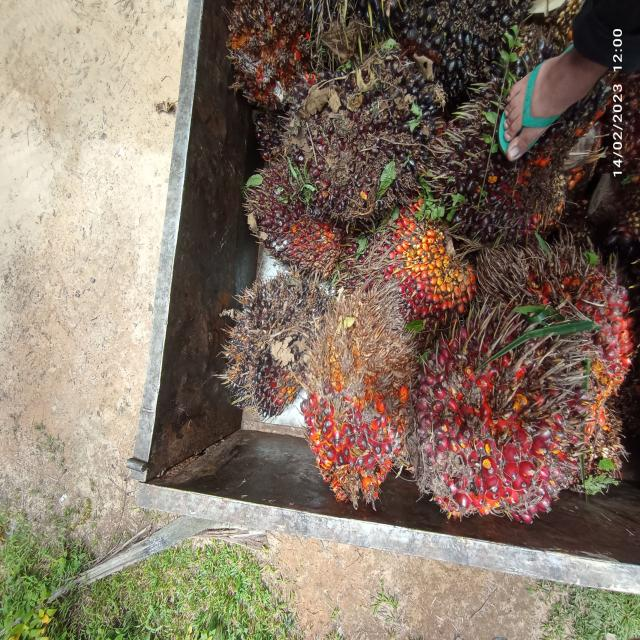fraksi 00: (266, 42, 449, 234), (207, 253, 320, 429)
fraksi 1: (233, 151, 347, 281)
fraksi 3: (404, 288, 576, 542), (290, 283, 414, 518), (495, 213, 640, 408), (354, 179, 480, 367)
